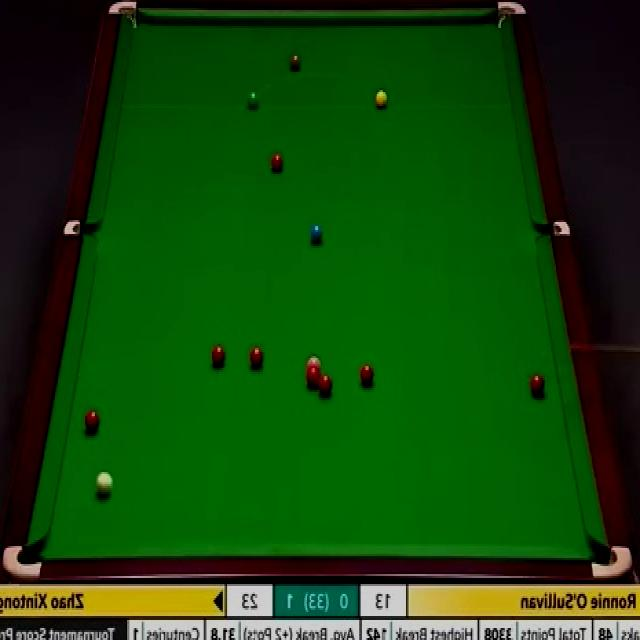blue-ball: (310, 224, 323, 243)
brown-ball: (290, 53, 302, 71)
green-ball: (247, 89, 260, 110)
pink-ball: (308, 358, 322, 373)
red-ball: (528, 372, 544, 397), (210, 344, 227, 367), (248, 346, 265, 368), (84, 410, 101, 431), (318, 374, 334, 396), (360, 362, 375, 384), (271, 153, 284, 174), (306, 371, 321, 387)
white-ball: (96, 471, 115, 496)
yellow-ball: (376, 90, 388, 108)
